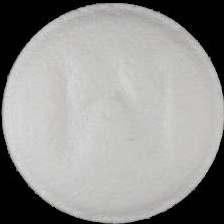55154-5678: (0, 0, 224, 224)
